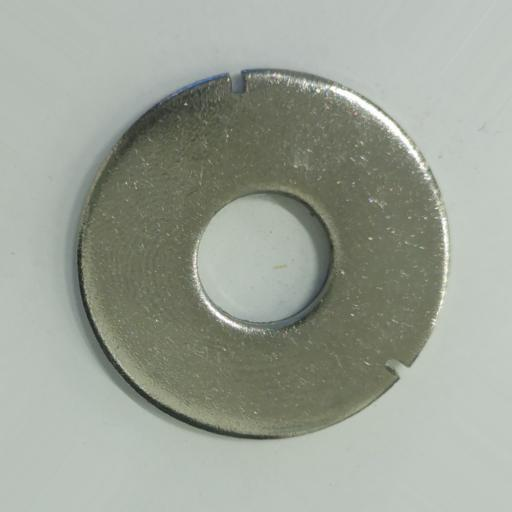burr: (382, 356, 410, 380), (227, 70, 248, 95)
